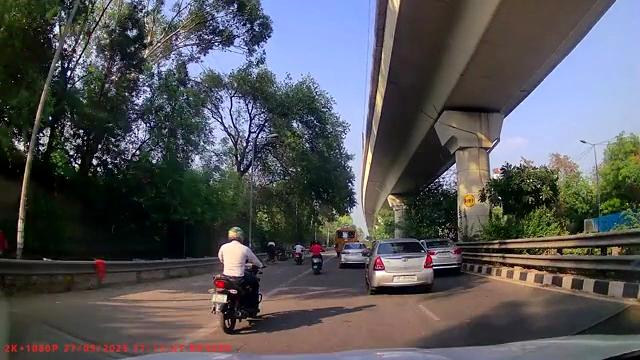motorcycle_with_helmet: (209, 224, 265, 334)
